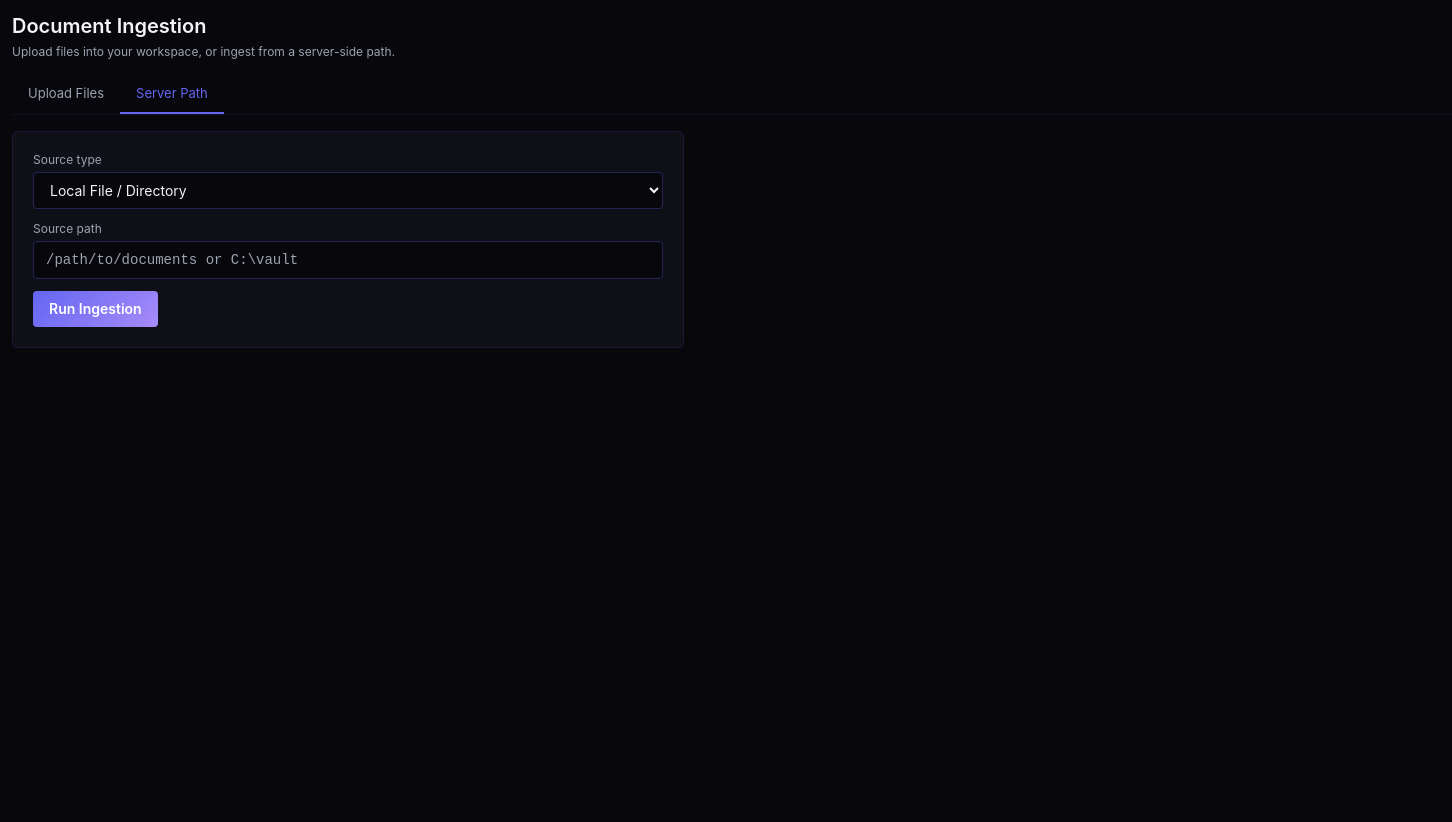
Test case: IngestionView › renders ingestion result metrics after successful submit
This screenshot has width=1452, height=822.
Step 1. Type "/tmp/docs" into the field with placeholder "/path/to/documents or C:\\vault" → [348, 260], box left=33, top=240, right=663, bottom=278
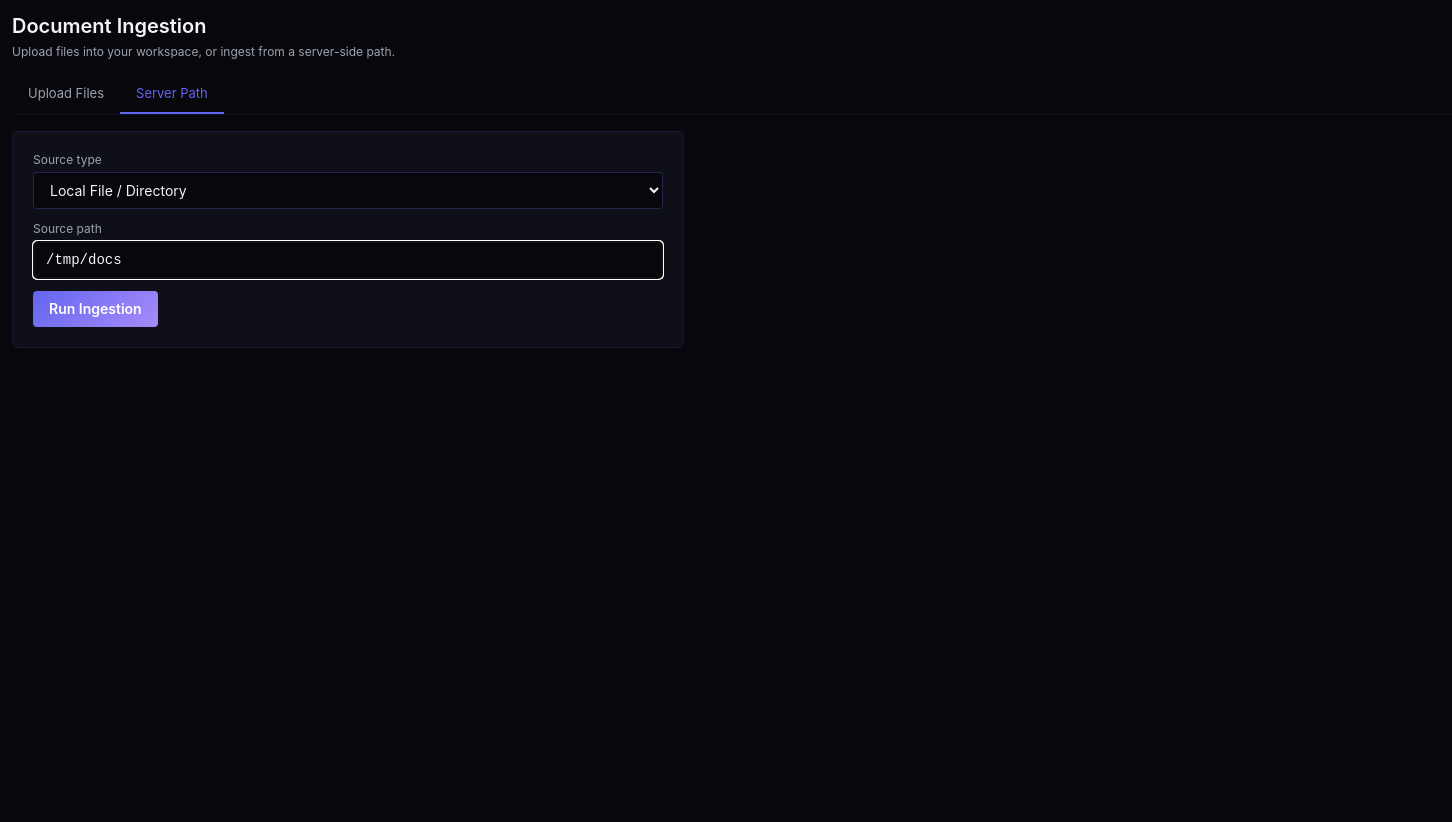
Step 2. Click the button "Run Ingestion" → [95, 308], box left=33, top=290, right=158, bottom=326
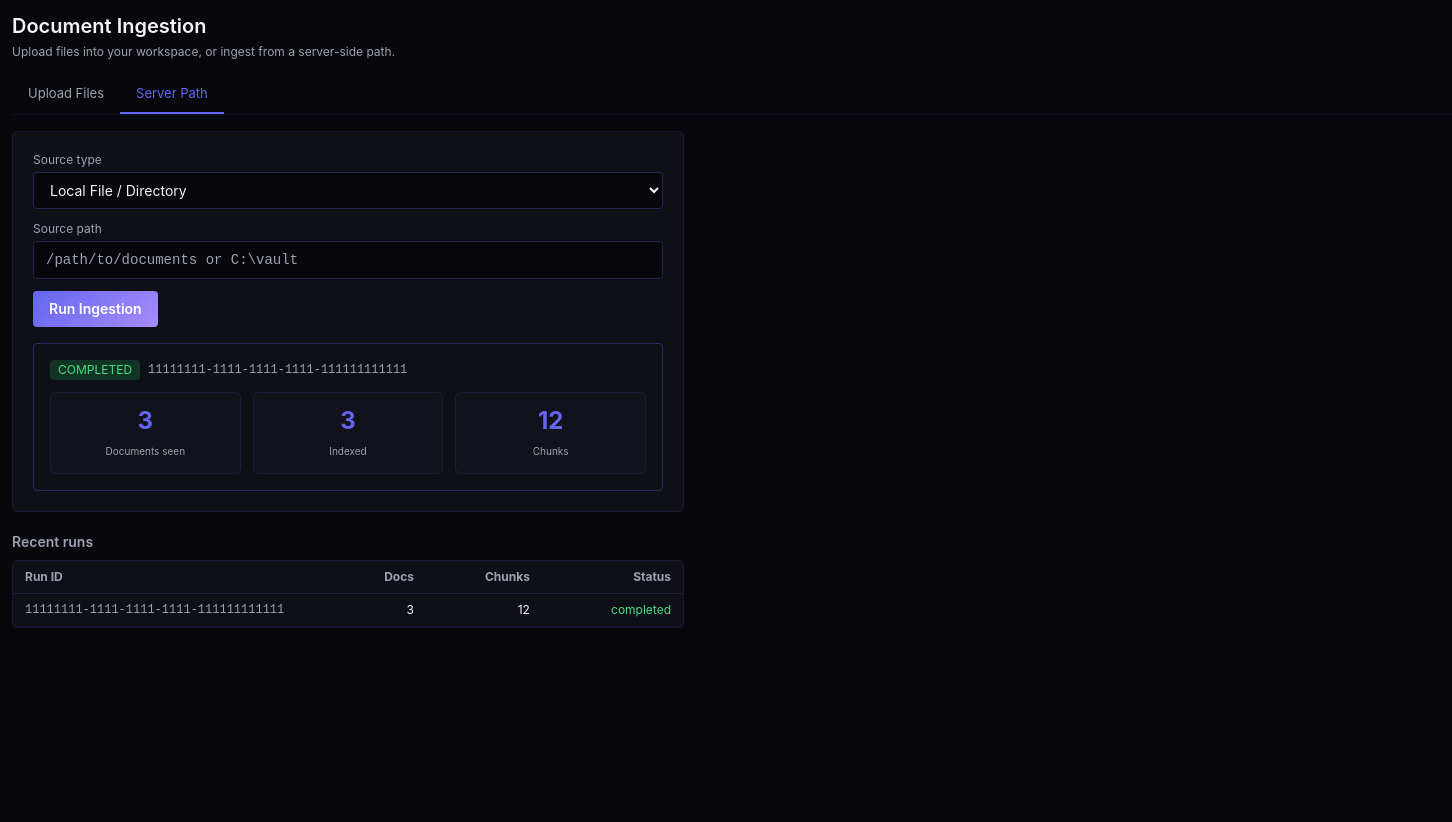
Result: the text "COMPLETED" is shown at left=50, top=360, right=140, bottom=380
Result: the text "Documents seen" is shown at left=106, top=444, right=185, bottom=456
Result: the text "Indexed" is shown at left=329, top=444, right=367, bottom=456
